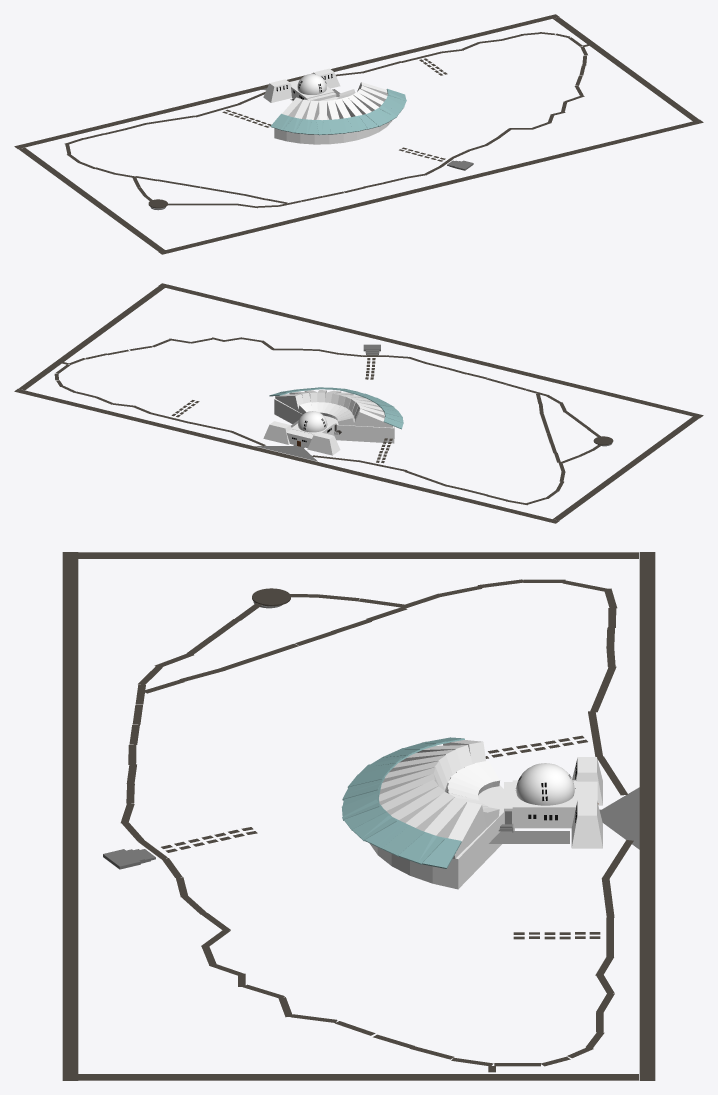
File: asmundarsafn_nyast_4.obj
3 renders of one model, top to bottom at view 1: azimuth 30°, elevation 25°; view 2: azimuth 150°, elevation 25°; view 3: azimuth 270°, elevation 25°, orthographic. The views are drawn at different scales.
Parts seen in each view (by area): view 1: Plane.001, Cube.047, Cube.033, syningarsalur, Sphere, h_hlid; view 2: Plane.001, Cube.033, syningarsalur, Cube.047, h_hlid, Sphere, v_hlid; view 3: Plane.001, Cube.033, Cube.047, syningarsalur, Sphere, innanhus, v_hlid.
Part boxes in pixels (x1,y1,x2,y2): Plane.001: (14, 14, 703, 254); Cube.047: (270, 88, 406, 135); Cube.033: (282, 82, 387, 120); syningarsalur: (274, 97, 392, 144); Sphere: (297, 74, 326, 94); h_hlid: (263, 79, 291, 102); Plane.001: (14, 283, 703, 523); Cube.033: (275, 390, 392, 427); syningarsalur: (274, 399, 394, 443); Cube.047: (269, 387, 403, 429); h_hlid: (307, 432, 340, 455); Sphere: (298, 411, 327, 432); v_hlid: (263, 421, 291, 444); Plane.001: (62, 552, 655, 1080); Cube.033: (379, 740, 500, 858); Cube.047: (341, 737, 464, 868); syningarsalur: (369, 785, 514, 889); Sphere: (516, 763, 574, 805); innanhus: (512, 780, 577, 828); v_hlid: (571, 800, 602, 848).
Bounding box in the file's own units: 160 × 9.13 × 75.73.
